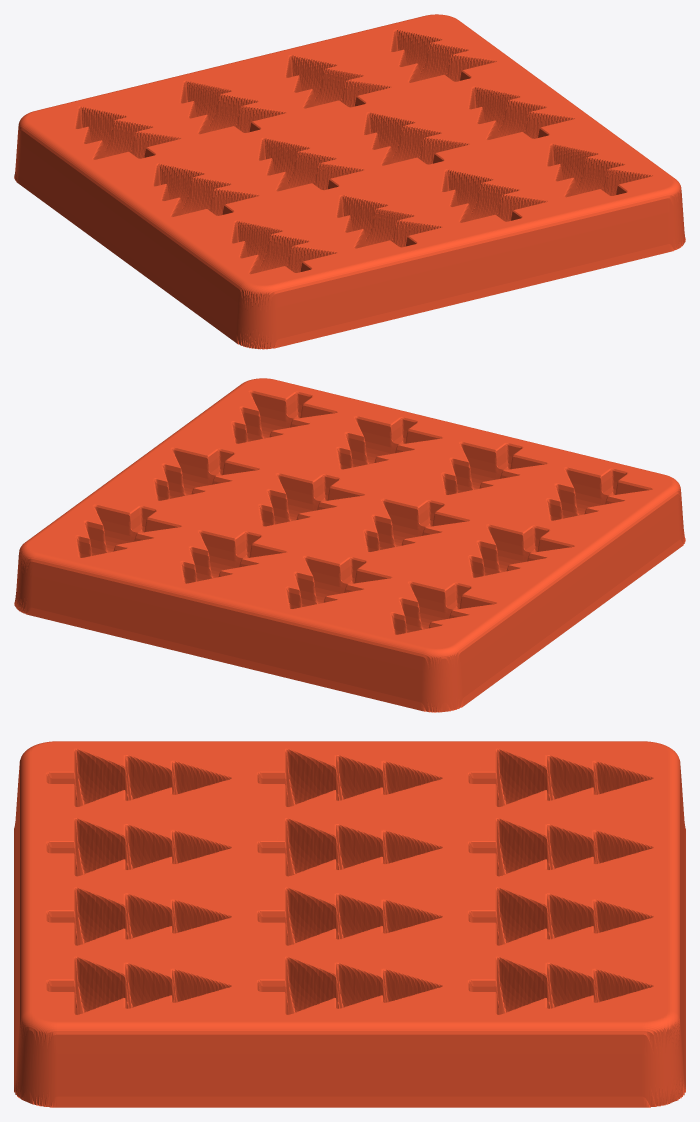
Rendered from mold.glb.
The picture shows the model from 3 angles, top to bottom: view 1: azimuth 30°, elevation 25°; view 2: azimuth 150°, elevation 25°; view 3: azimuth 270°, elevation 25°; orthographic projection. The views are drawn at different scales.
Parts seen in each view (by area): view 1: geometry_0; view 2: geometry_0; view 3: geometry_0.
Boxes of the visible parts, x1=… form: geometry_0: x1=14, y1=14, x2=685, y2=349; geometry_0: x1=14, y1=378, x2=685, y2=712; geometry_0: x1=14, y1=741, x2=685, y2=1107.
Size of the model in its own units: 0.1459 by 0.0182 by 0.141.
